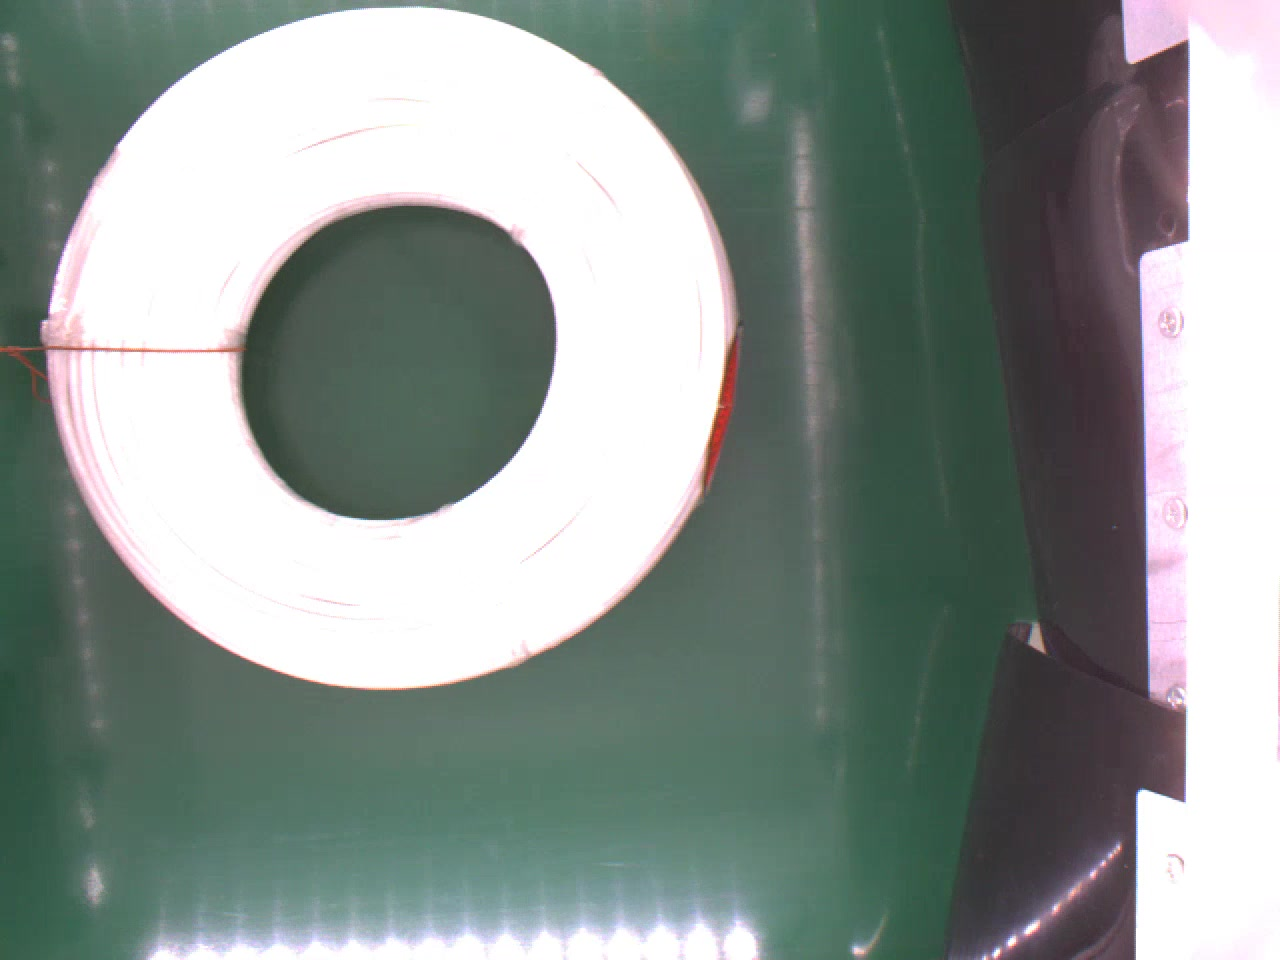white: (39, 9, 743, 681)
